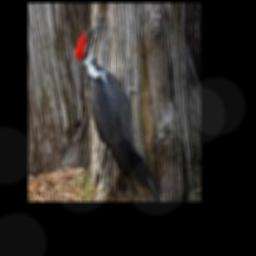Woodpecker: (73, 12, 158, 199)
